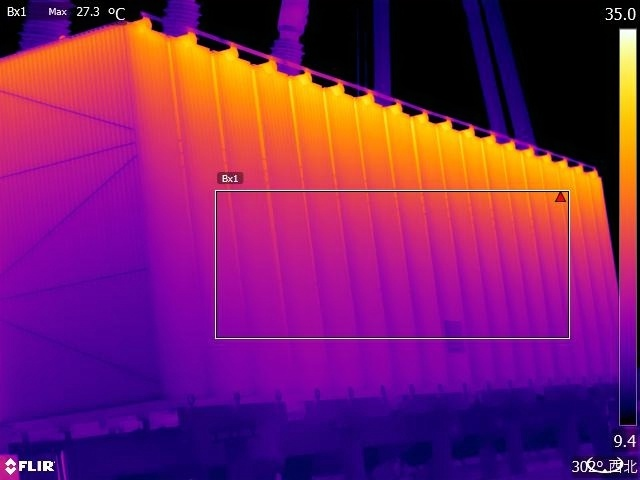transformer: (4, 39, 611, 457)
tube: (263, 1, 320, 68), (18, 1, 73, 52), (160, 1, 207, 38)
